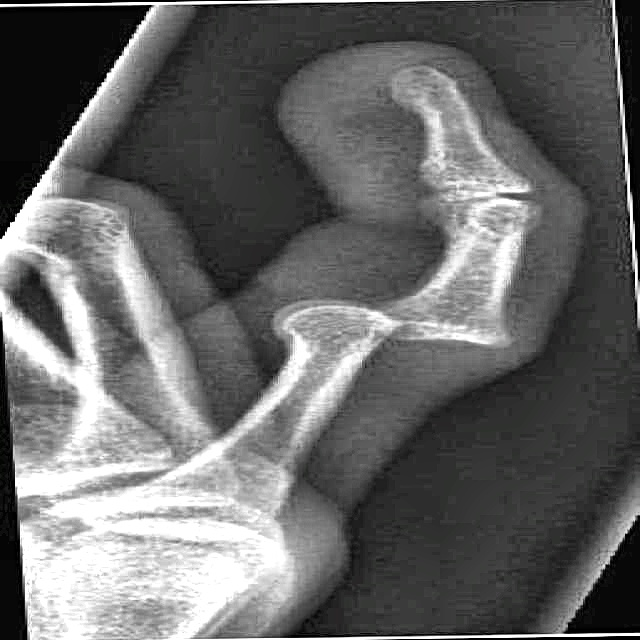Transverse: (258, 280, 566, 380)
